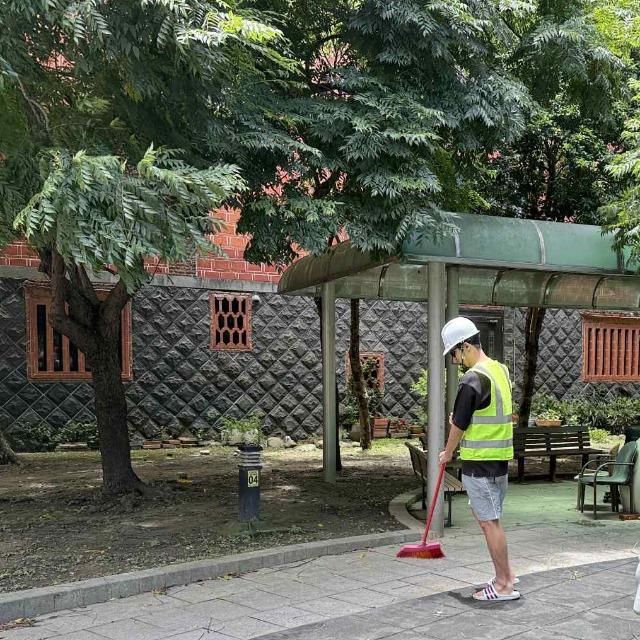Vest: (454, 361, 523, 474)
